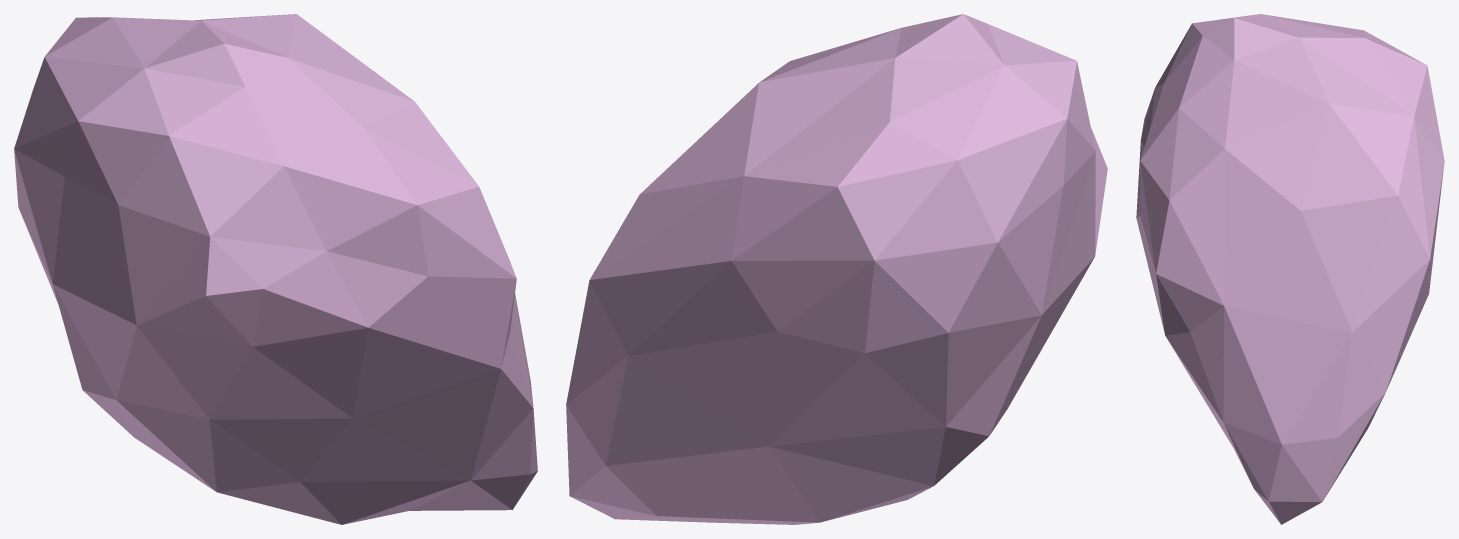
3 views of the same model, side by side, from view 1: azimuth 30°, elevation 25°; view 2: azimuth 150°, elevation 25°; view 3: azimuth 270°, elevation 25° (orthographic). The views are drawn at different scales.
Parts seen in each view (by area): view 1: 607344842.obj; view 2: 607344842.obj; view 3: 607344842.obj.
Boxes of the visible parts, left/top/right/bottom form: 607344842.obj: left=14, top=14, right=537, bottom=524; 607344842.obj: left=566, top=14, right=1107, bottom=524; 607344842.obj: left=1136, top=14, right=1444, bottom=524.
Bounding box in the file's own units: 306 × 353 × 248.
